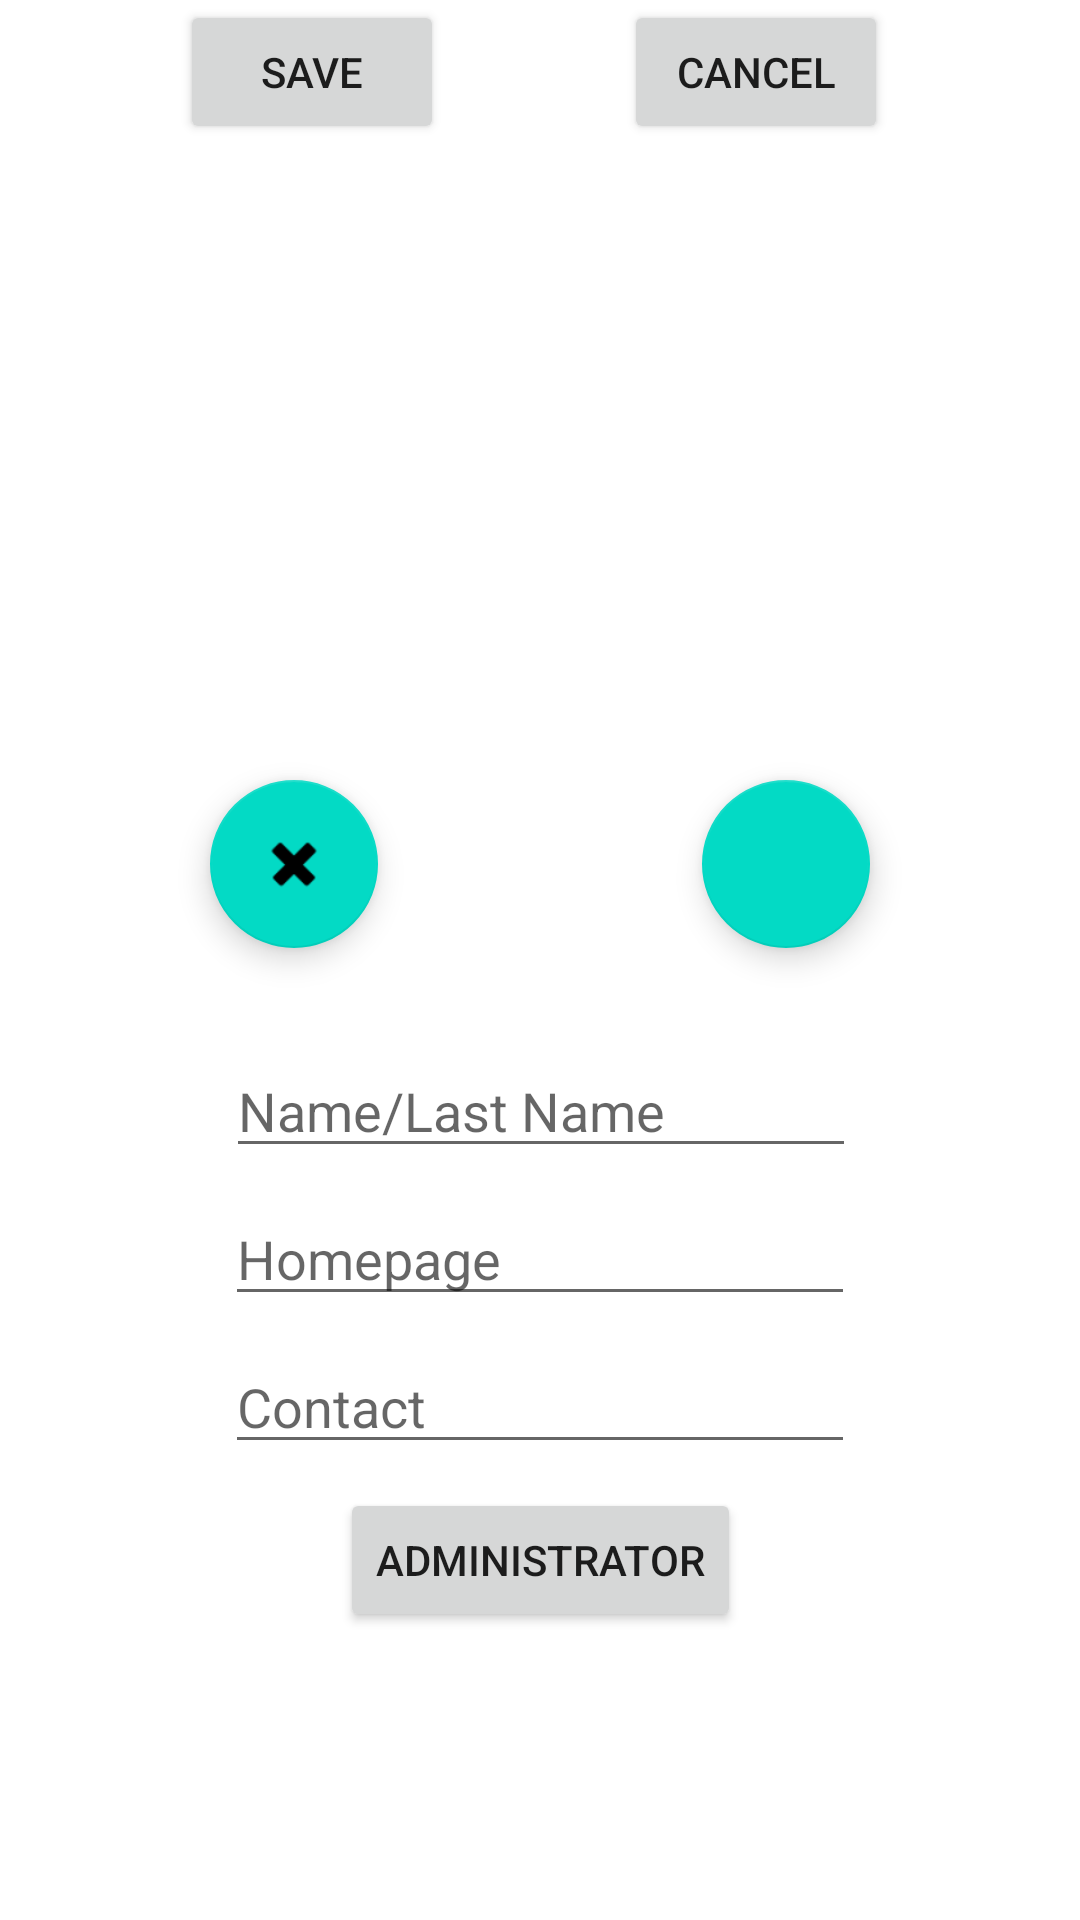

Screen size 1080×1920. Icon name, then its box in pixels as (x1, y1, x2, y2):
delete: (210, 780, 378, 948)
